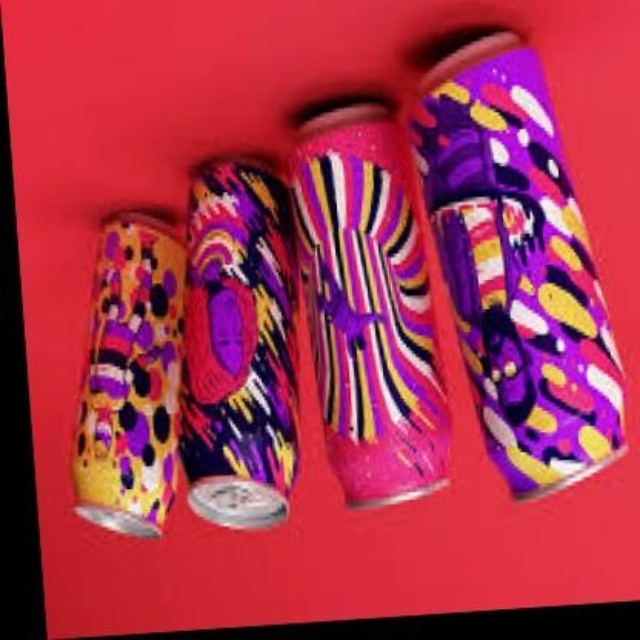trash: (412, 32, 625, 497), (292, 100, 448, 505), (180, 160, 295, 528), (74, 212, 183, 535)
